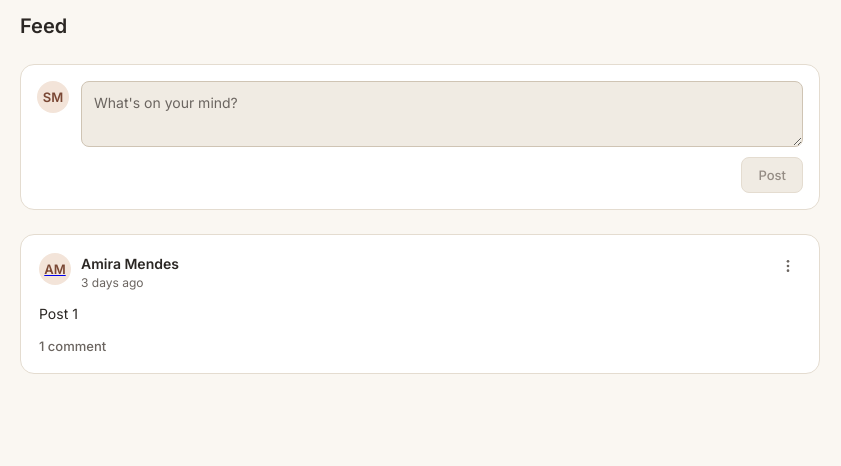
Test case: FeedPage › deletes a post with comments after the inline confirm
The width and height of the screenshot is (841, 466).
Expected: the text "Post 1" is shown, [39, 305, 78, 322]
Click the button named "Post actions" at (788,266), box [775, 253, 801, 279]
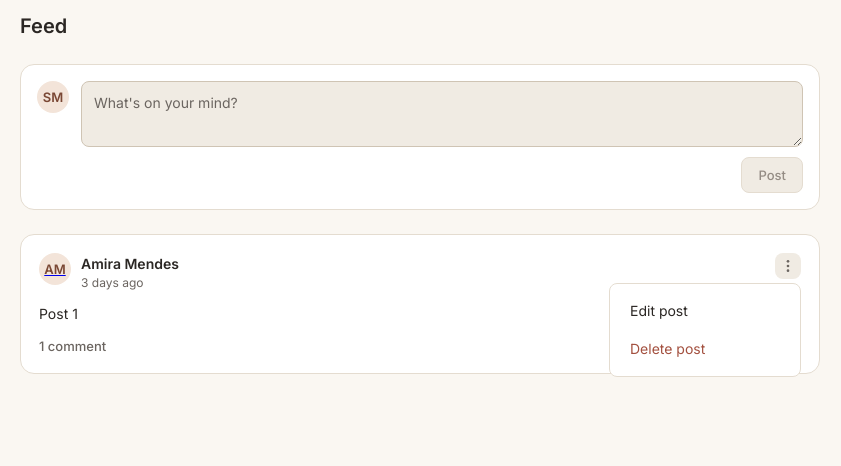
Click the menu item "Delete post" at (668,348), box [630, 340, 705, 357]
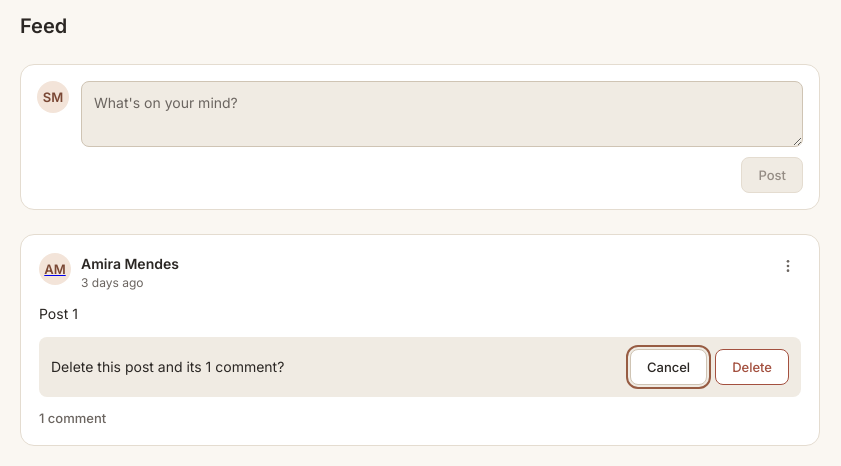
Click the button "Delete" at (752,367), box [715, 349, 789, 385]
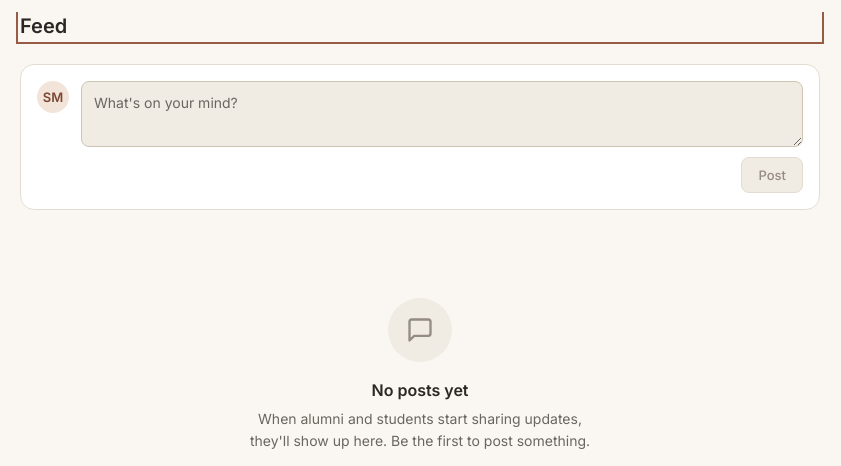
Expected: the text "Post 1" is gone
